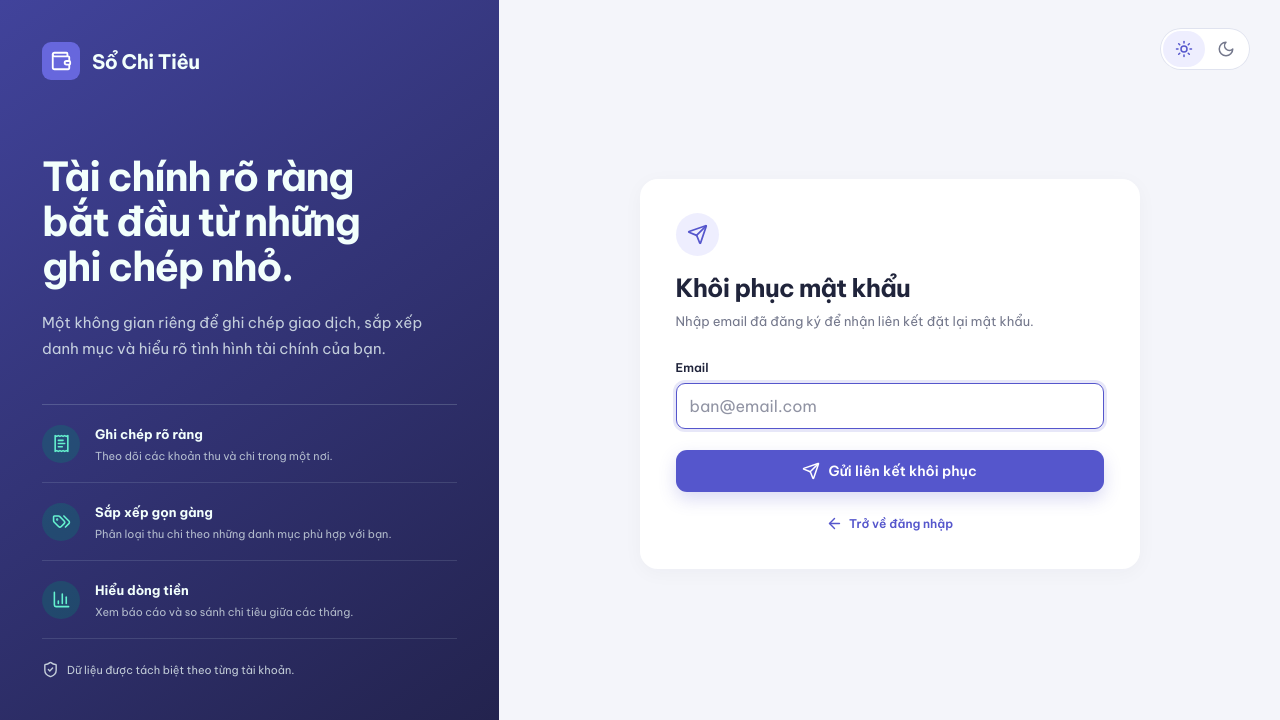
Test case: authentication pages › submits forgot password and can return to the form
Step 1. Type " OWNER@EXAMPLE.COM " into the field labelled "Email" → (890, 406), box [676,383,1104,429]
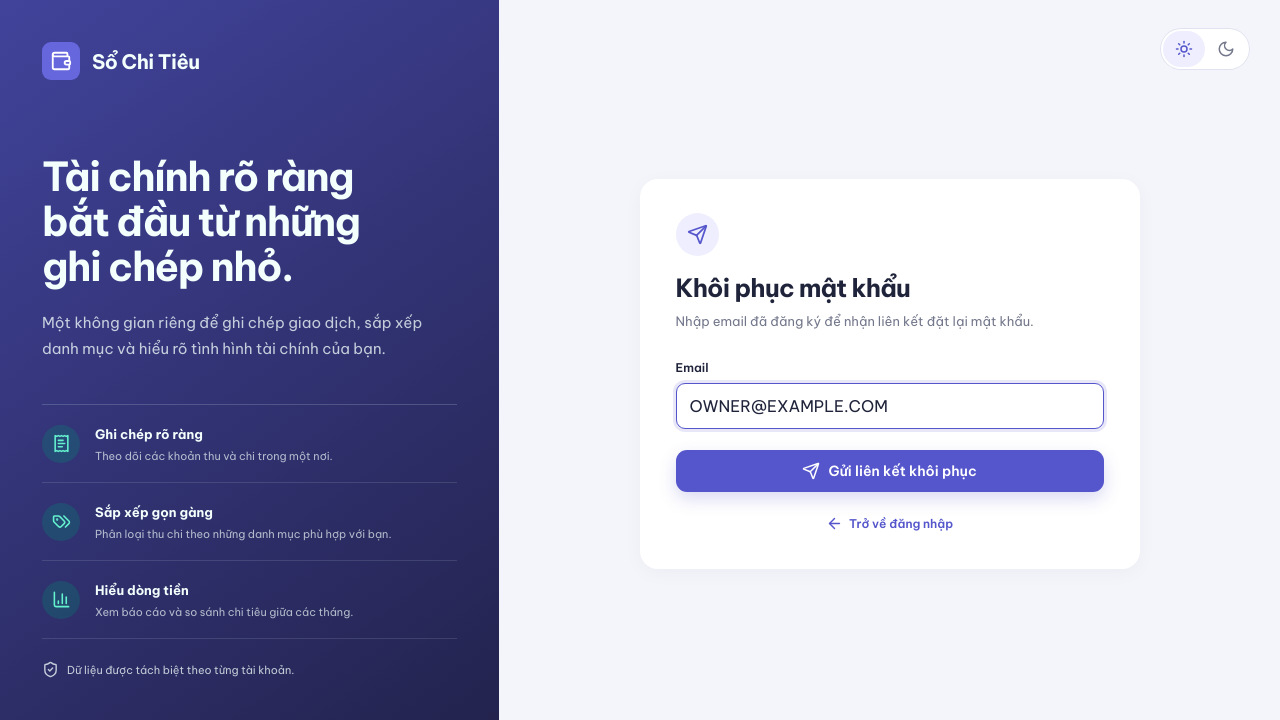
Step 2. Submit the form, box [676,360,1104,492]
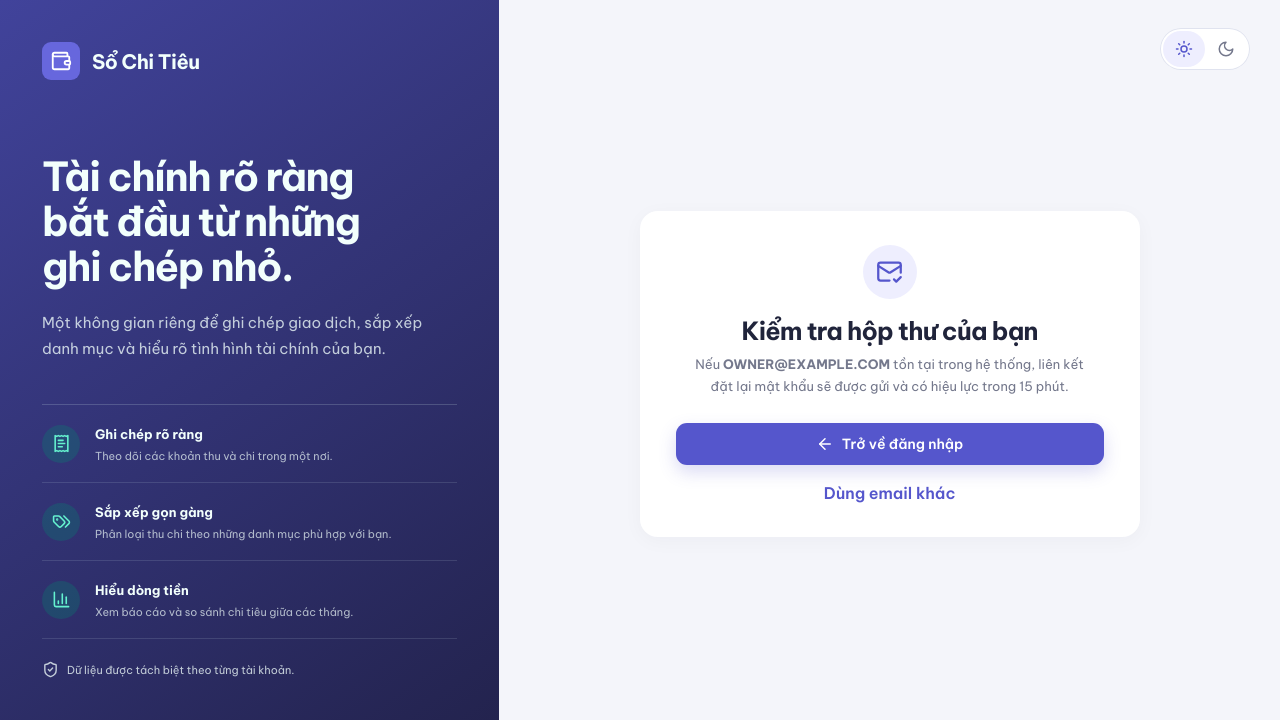
Now the heading "Kiểm tra hộp thư của bạn" is shown, box [742,316,1038,347]
Step 3. Click the button "Dùng email khác" → (890, 493), box [824,483,955,503]
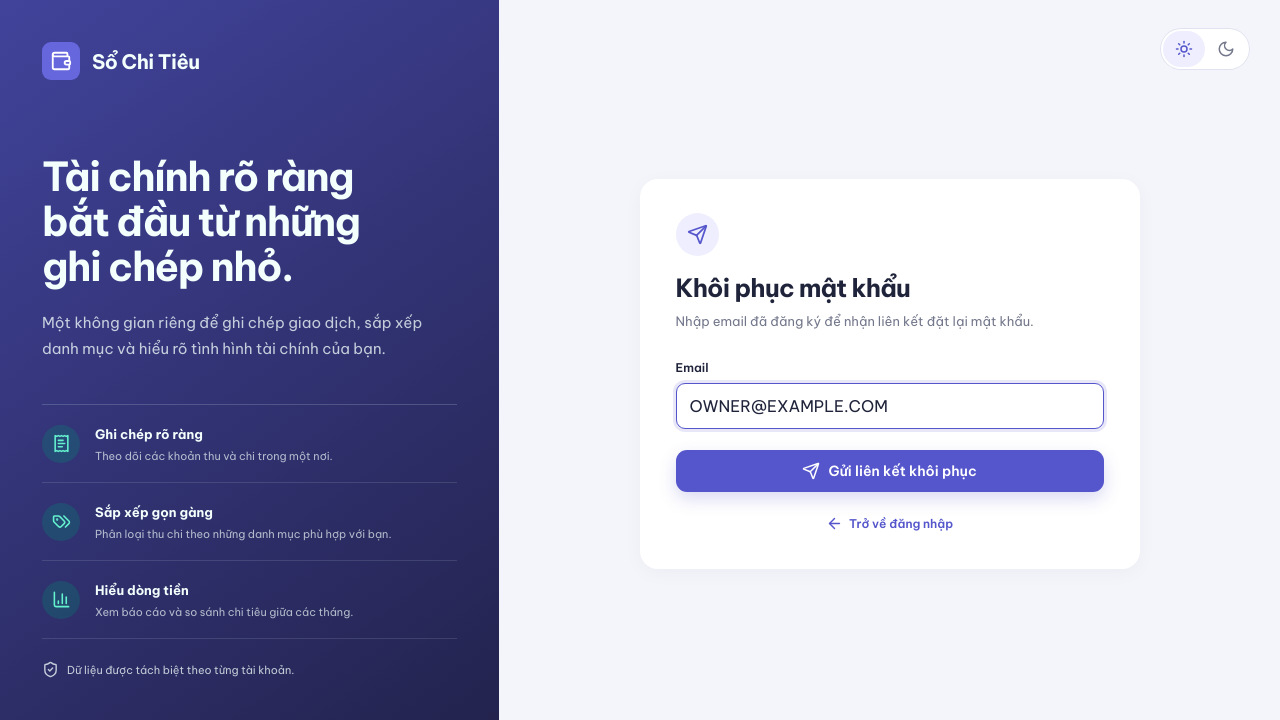
Now the heading "Khôi phục mật khẩu" is shown, box [676,272,910,304]
